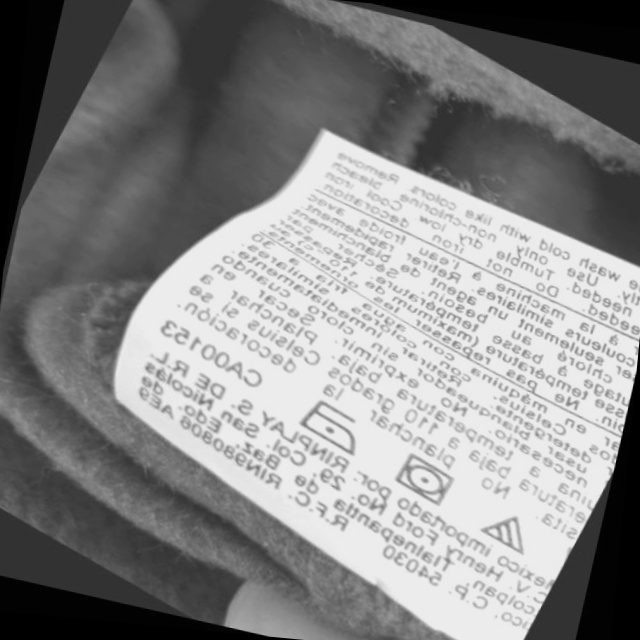iron_low: (288, 393, 370, 461)
non_chlorine_bleach: (476, 501, 538, 556)
tumble_dry_low: (389, 450, 465, 509)
